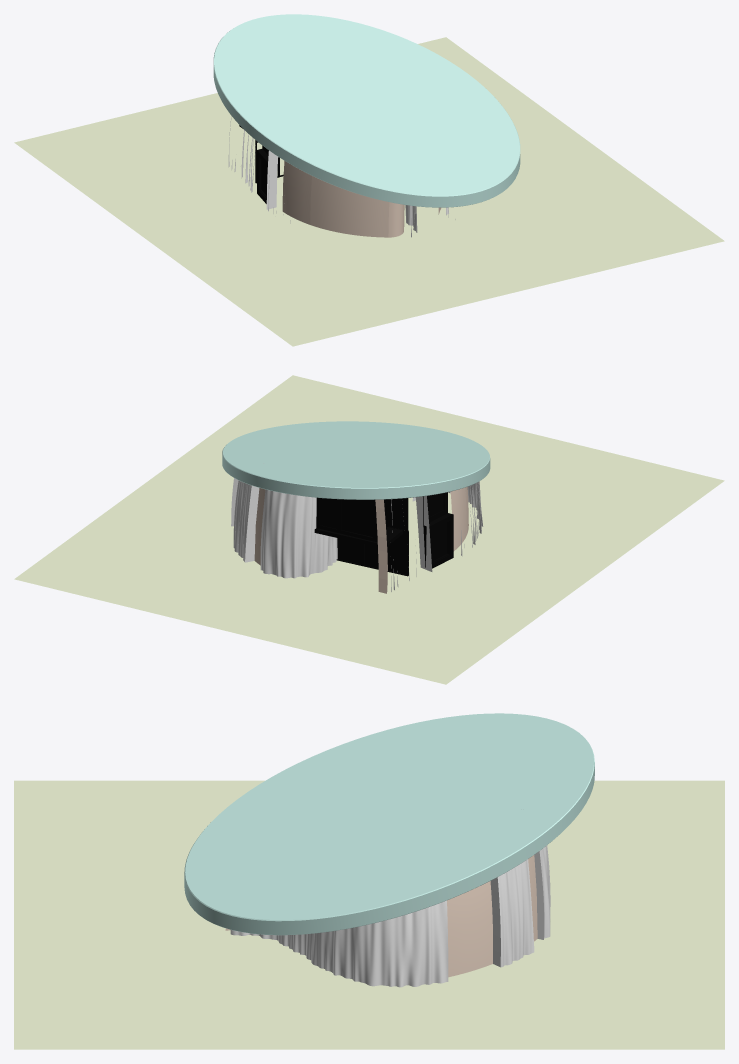
File: building.glb
The picture shows the model from 3 angles, top to bottom: view 1: azimuth 30°, elevation 25°; view 2: azimuth 150°, elevation 25°; view 3: azimuth 270°, elevation 25°; orthographic projection. The views are drawn at different scales.
Visible parts, largest first — view 1: Rectangle003, Ellipse001, Object002, Shape002, Obj_000001; view 2: Rectangle003, Ellipse001, Obj_000002, Object002, Rectangle002, Shape002, Rectangle004, Obj_000001, Line001, Object001, Box003, Box002 (+1 smaller); view 3: Rectangle003, Ellipse001, Object002, Obj_000002, Block:003.
Boxes of the visible parts, x1,y1,x2,y2 form: Rectangle003: (14,37,724,346); Ellipse001: (213,14,520,207); Object002: (221,18,509,190); Shape002: (282,161,404,237); Obj_000001: (228,116,417,237); Rectangle003: (14,375,724,684); Ellipse001: (222,421,490,499); Obj_000002: (231,463,337,578); Object002: (229,423,475,486); Rectangle002: (337,498,408,574); Shape002: (375,487,468,593); Rectangle004: (320,498,386,536); Obj_000001: (391,481,483,591); Line001: (423,492,453,568); Object001: (427,493,447,560); Box003: (316,497,385,542); Box002: (314,526,402,546); Rectangle003: (14,780,724,1049); Ellipse001: (184,713,594,935); Object002: (193,718,585,915); Obj_000002: (230,845,550,987); Block:003: (225,855,537,977).
Size of the model in its own units: 24.86 by 6.38 by 27.78.
